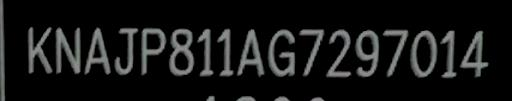letter: (262, 24, 300, 79), (108, 21, 142, 82), (20, 21, 56, 76), (379, 22, 411, 81), (80, 22, 114, 77), (166, 24, 198, 81), (234, 26, 266, 83), (296, 25, 328, 80), (408, 26, 440, 81), (54, 23, 84, 80), (354, 26, 382, 85), (324, 27, 354, 82), (140, 24, 168, 79), (213, 25, 239, 80), (438, 27, 462, 84), (193, 25, 215, 82)
